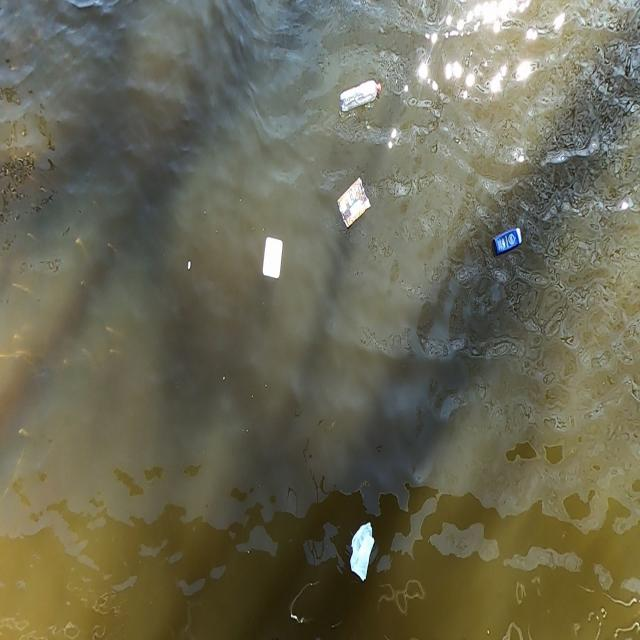Autre plastique: (491, 226, 525, 262)
Bouteille plastique: (337, 78, 387, 114)
